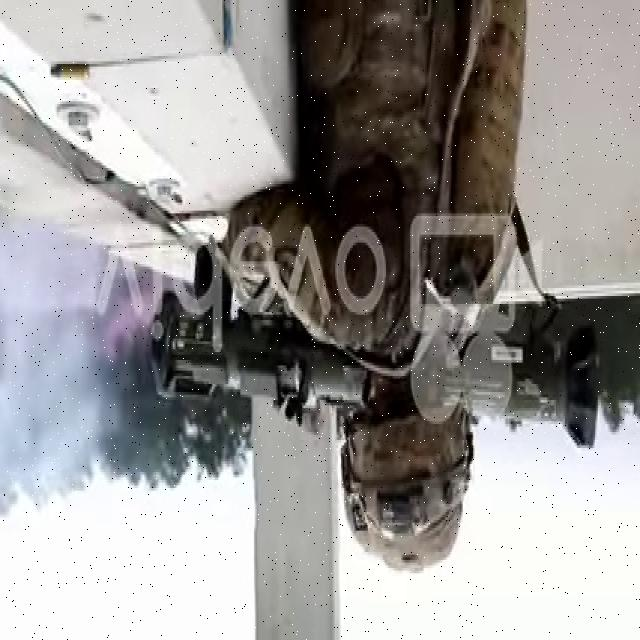bazooka: (147, 286, 605, 455)
